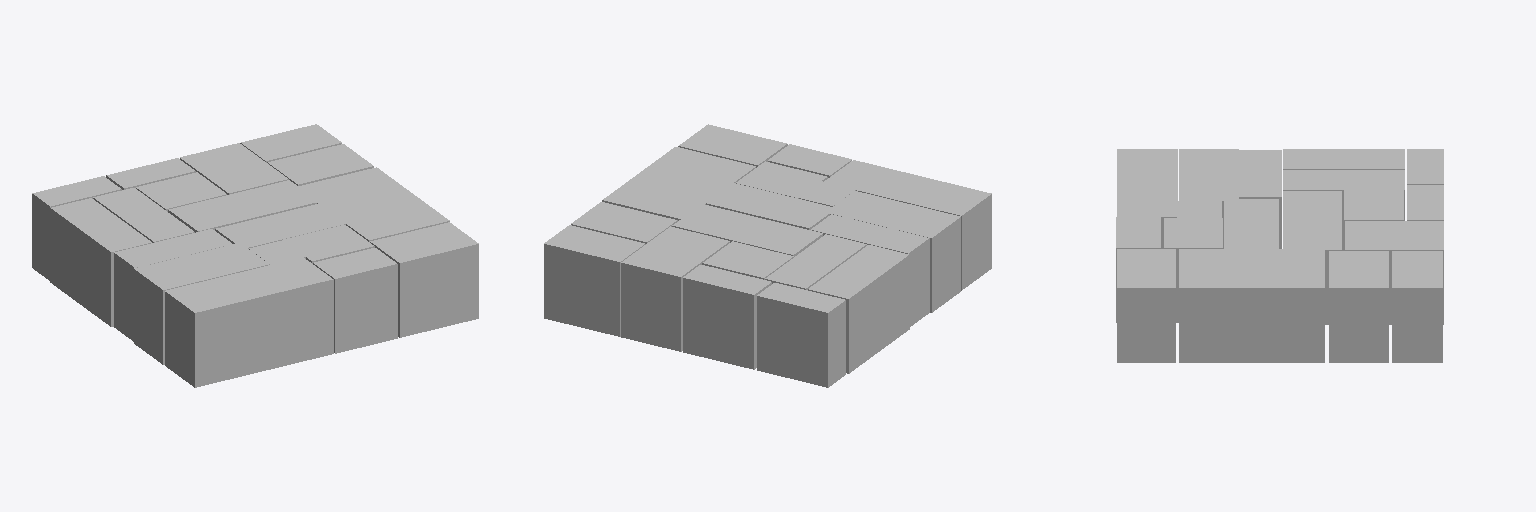
Rendered from Ground.obj.
3 renders of one model, left to right at view 1: azimuth 30°, elevation 25°; view 2: azimuth 150°, elevation 25°; view 3: azimuth 270°, elevation 25°, orthographic.
Parts seen in each view (by area): view 1: Cube.010, Cube.012, Cube.001, Cube.011, Cube.015, Cube.013, Cube.009, Cube.018, Cube.006, Cube.016, Cube.003, Cube.002 (+6 smaller); view 2: Cube.003, Cube.007, Cube.006, Cube.001, Cube.004, Cube.010, Cube.015, Cube.013, Cube.009, Cube.018, Cube.016, Cube.002 (+6 smaller); view 3: Cube.015, Cube.012, Cube.008, Cube.007, Cube.010, Cube.009, Cube.006, Cube.013, Cube.016, Cube.002, Cube.001, Cube.018 (+6 smaller).
Boxes of the visible parts, box(x1,y1,x2,y2) form: Cube.010: box(165, 257, 333, 387); Cube.012: box(370, 222, 478, 337); Cube.001: box(50, 198, 151, 326); Cube.011: box(313, 248, 397, 353); Cube.015: box(298, 167, 449, 241); Cube.013: box(134, 243, 269, 364); Cube.009: box(168, 180, 318, 232); Cube.018: box(114, 229, 231, 341); Cube.006: box(180, 143, 288, 194); Cube.016: box(215, 204, 345, 248); Cube.003: box(32, 176, 121, 280); Cube.002: box(93, 188, 194, 242); Cube.003: box(757, 283, 845, 387); Cube.007: box(544, 225, 645, 336); Cube.006: box(621, 226, 729, 351); Cube.001: box(808, 245, 909, 373); Cube.004: box(683, 265, 771, 369); Cube.010: box(824, 160, 991, 290); Cube.015: box(602, 147, 755, 220); Cube.013: box(830, 191, 960, 312); Cube.009: box(672, 204, 822, 256); Cube.018: box(811, 214, 929, 326); Cube.016: box(706, 183, 835, 229); Cube.002: box(765, 234, 866, 289); Cube.015: box(1179, 249, 1324, 362); Cube.012: box(1117, 249, 1175, 362); Cube.008: box(1329, 251, 1388, 362); Cube.007: box(1392, 251, 1442, 362); Cube.010: box(1117, 149, 1177, 248); Cube.009: box(1283, 191, 1341, 324); Cube.006: box(1345, 221, 1443, 324); Cube.013: box(1179, 149, 1238, 248); Cube.016: box(1224, 199, 1278, 249); Cube.002: box(1283, 170, 1404, 250); Cube.001: box(1283, 149, 1404, 169); Cube.018: box(1239, 150, 1281, 248).
Bounding box in the file's own units: 8.01 × 2 × 7.92.